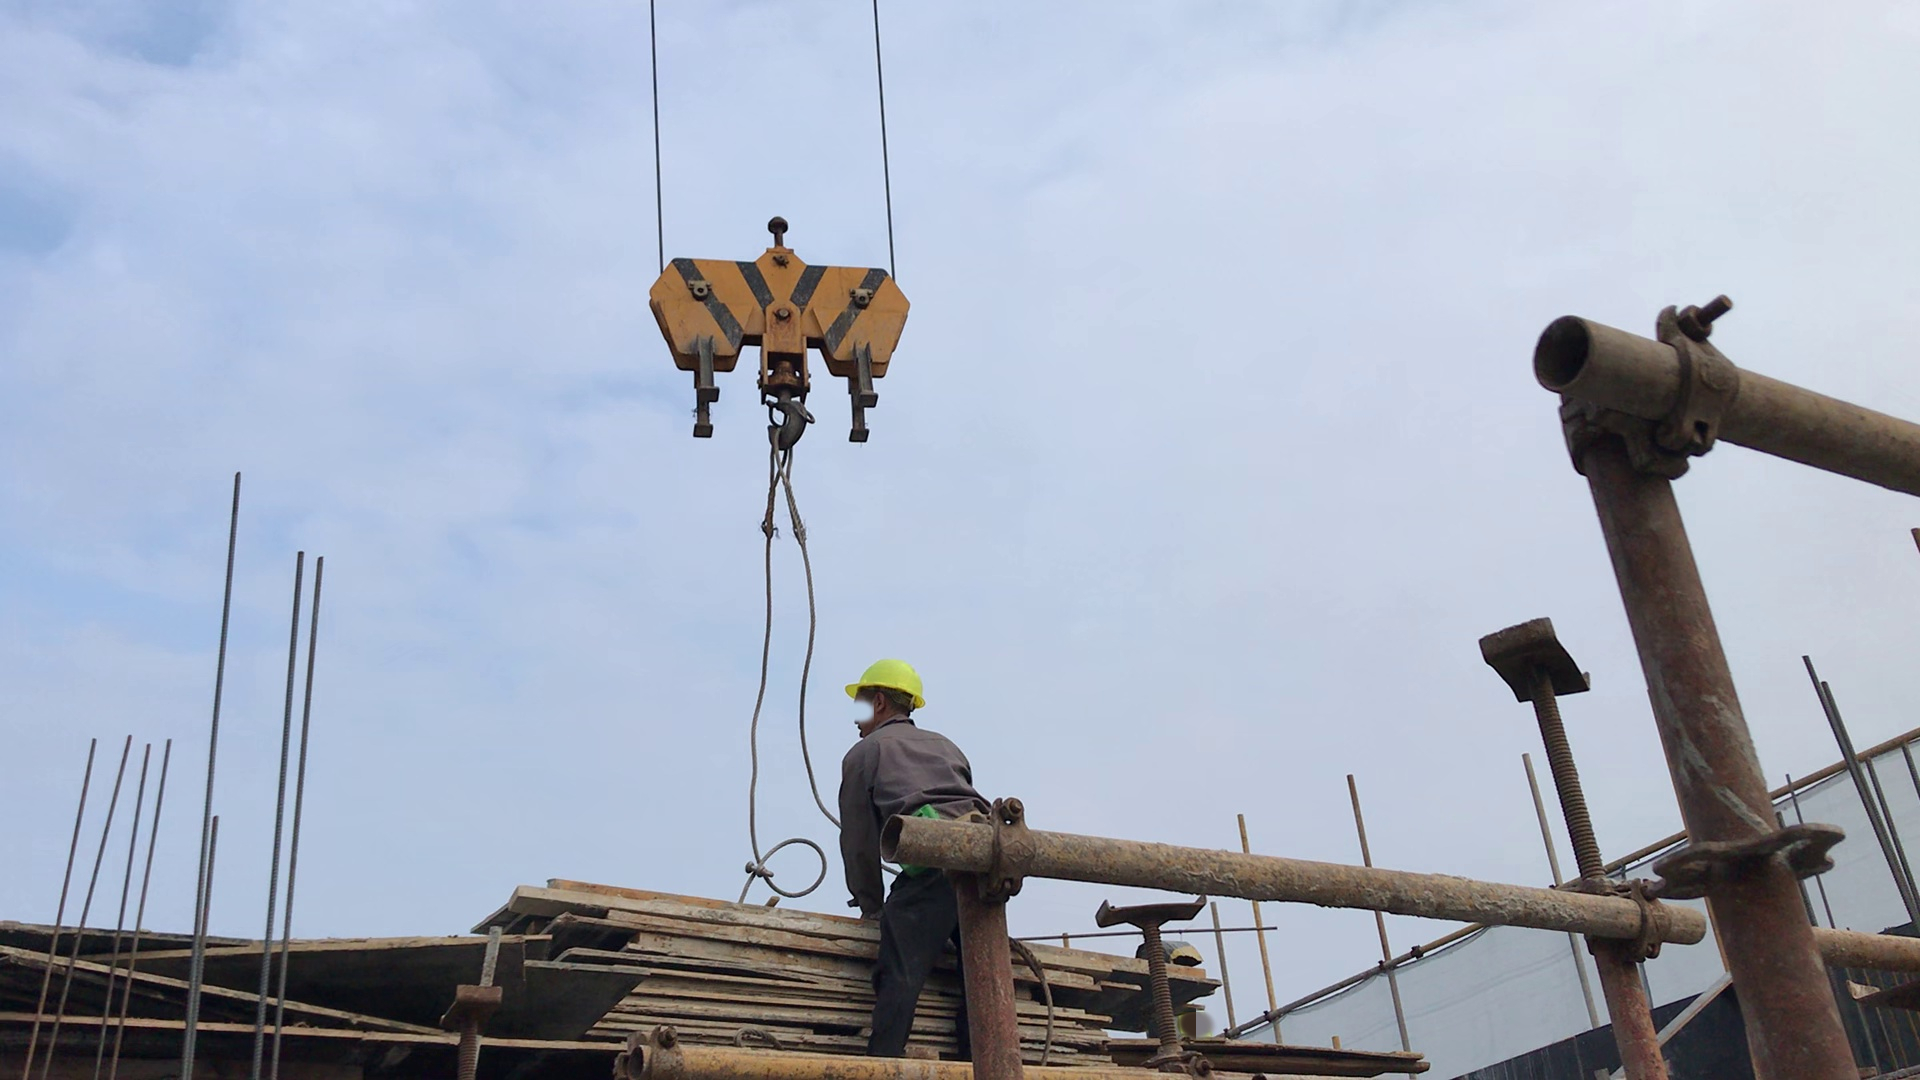board: (459, 875, 869, 1054)
helmet: (846, 663, 929, 708)
hook: (654, 204, 917, 461)
person: (823, 658, 968, 1061)
